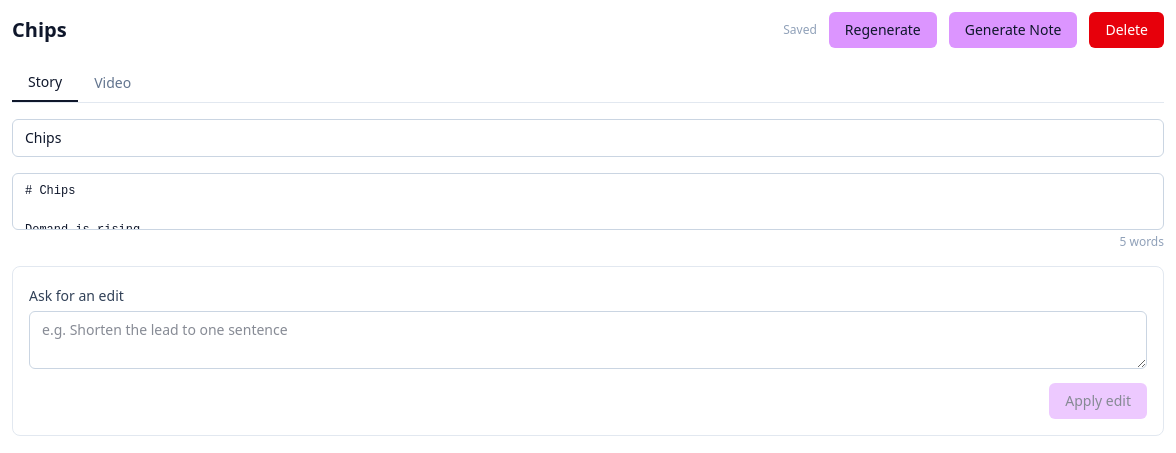
StoryEditor › shows a live word count for the markdown
Expected: the text "5 words" is shown, [1120,234,1164,250]
Clear the 1st text box at (588, 202), box [12,173,1164,230]
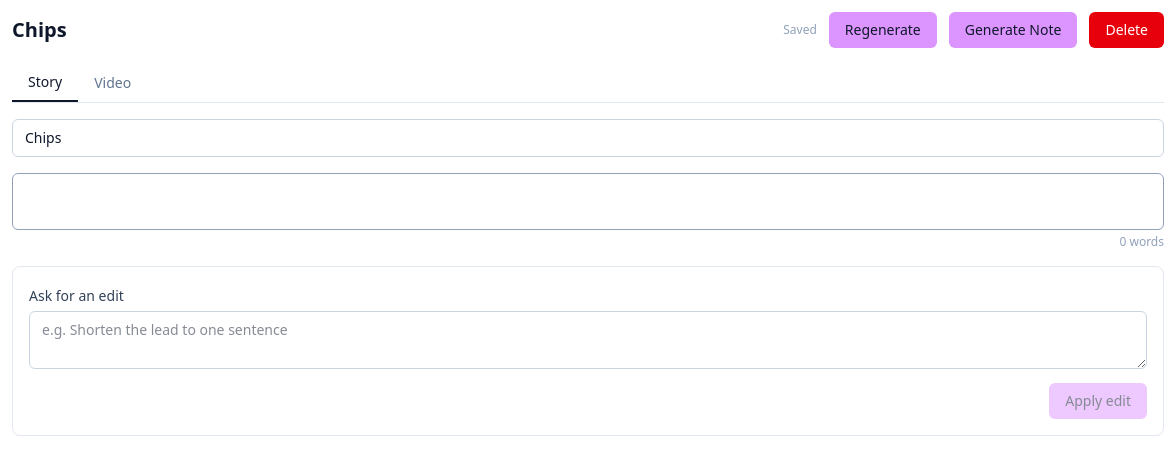
Now the text "0 words" is shown, box [1120,234,1164,250]
